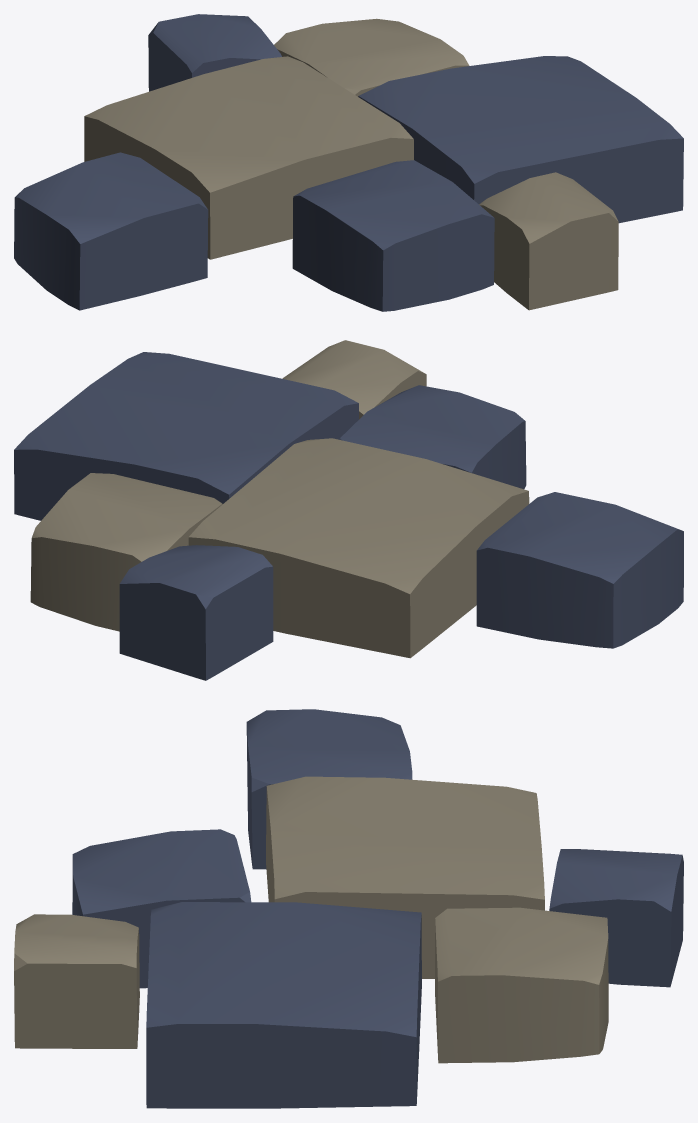
The model's file is Dalle_tile02.fbx.
3 renders of one model, top to bottom at view 1: azimuth 30°, elevation 25°; view 2: azimuth 150°, elevation 25°; view 3: azimuth 270°, elevation 25°, orthographic. The views are drawn at different scales.
Visible parts, largest first — view 1: Dalle_tile02; view 2: Dalle_tile02; view 3: Dalle_tile02.
Part boxes in pixels (bbox=[...]): Dalle_tile02: bbox=[14, 14, 683, 311]; Dalle_tile02: bbox=[14, 340, 683, 680]; Dalle_tile02: bbox=[14, 709, 683, 1108].
Bounding box in the file's own units: 207 × 33.53 × 187.
